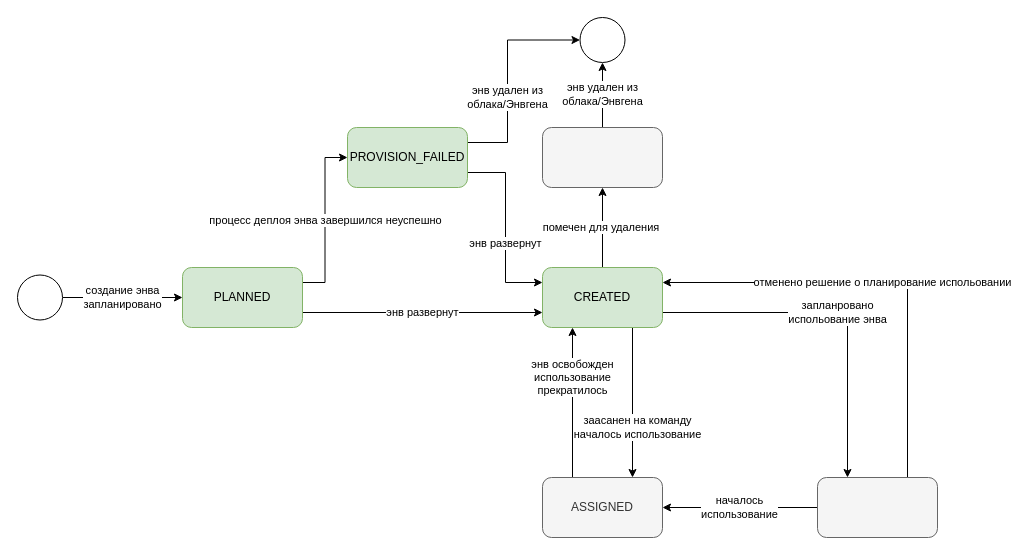
Some shapes in this 1029 by 555 pixel diagram are drawn without their labels. Each missing label, with the centre of its shape:
DEPRECATED: (602,157)
RESERVED: (877,507)
